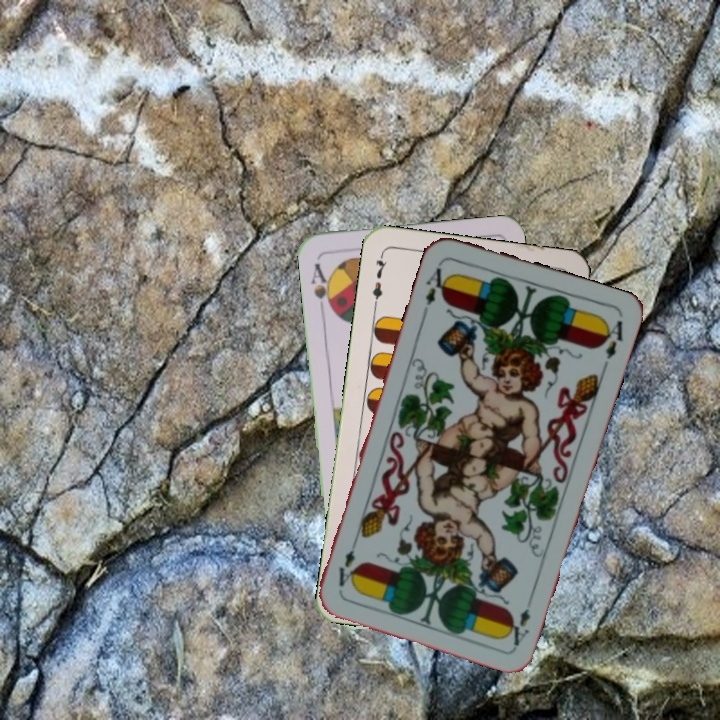E7: (368, 250, 389, 309)
EA: (503, 592, 536, 649), (421, 258, 453, 308)
SA: (307, 259, 336, 315)
